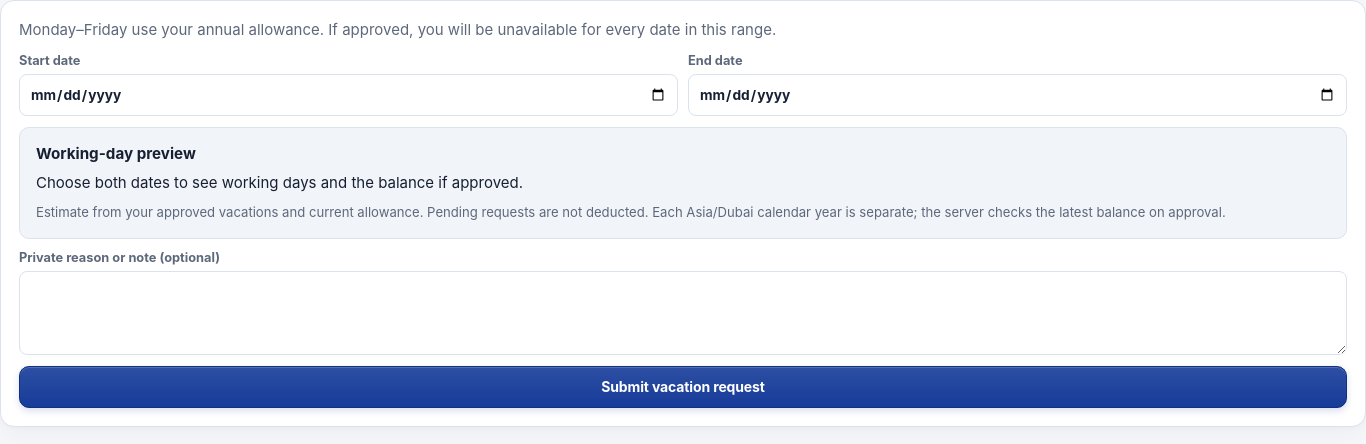
Test: explains reversed dates before submission
In the date field labelled "Start date": (348, 94) [19,74,678,116], type "2026-10-16"
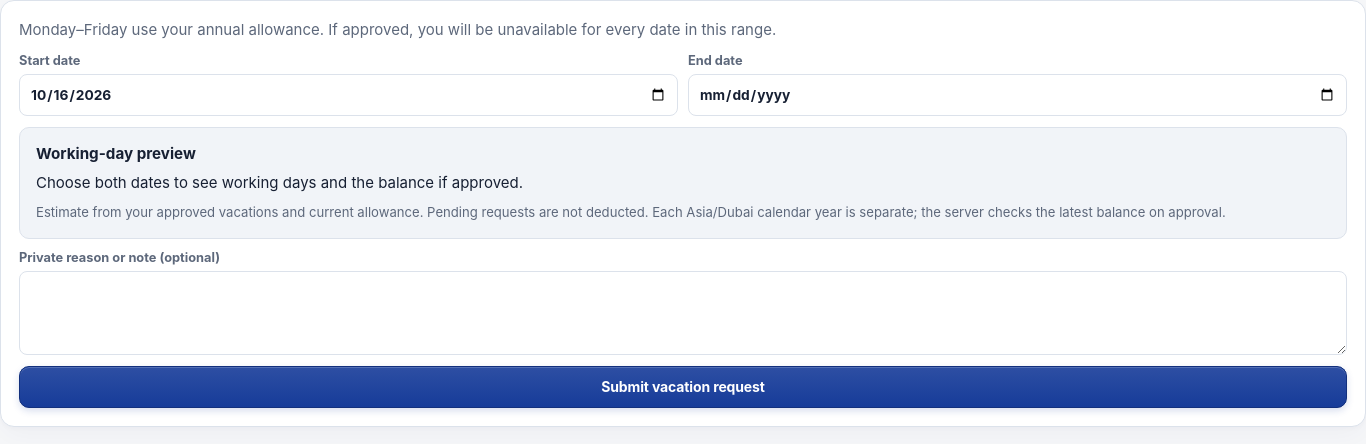
In the date field labelled "End date": (1018, 94) [688,74,1347,116], type "2026-10-12"
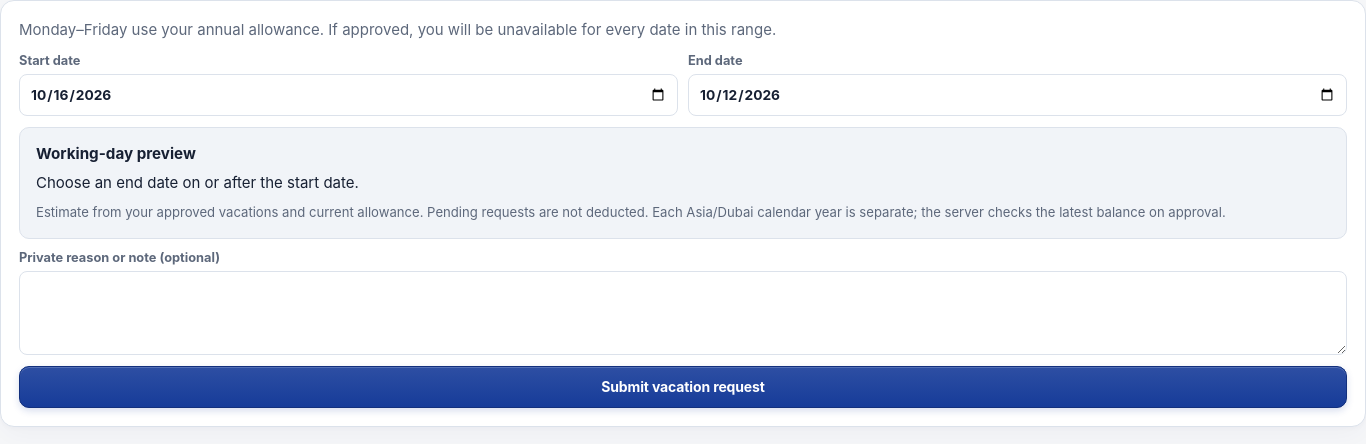
Now the text "Choose an end date on or after the start date." is shown, box [36,172,359,192]
